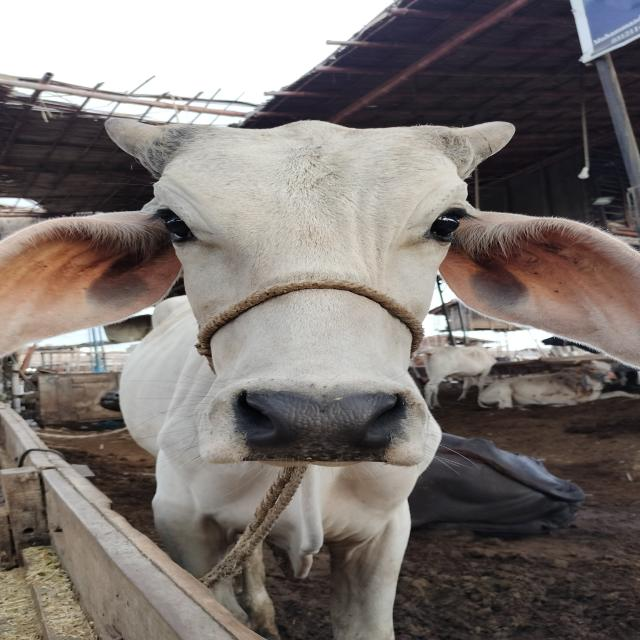muzzles: (219, 380, 431, 471)
